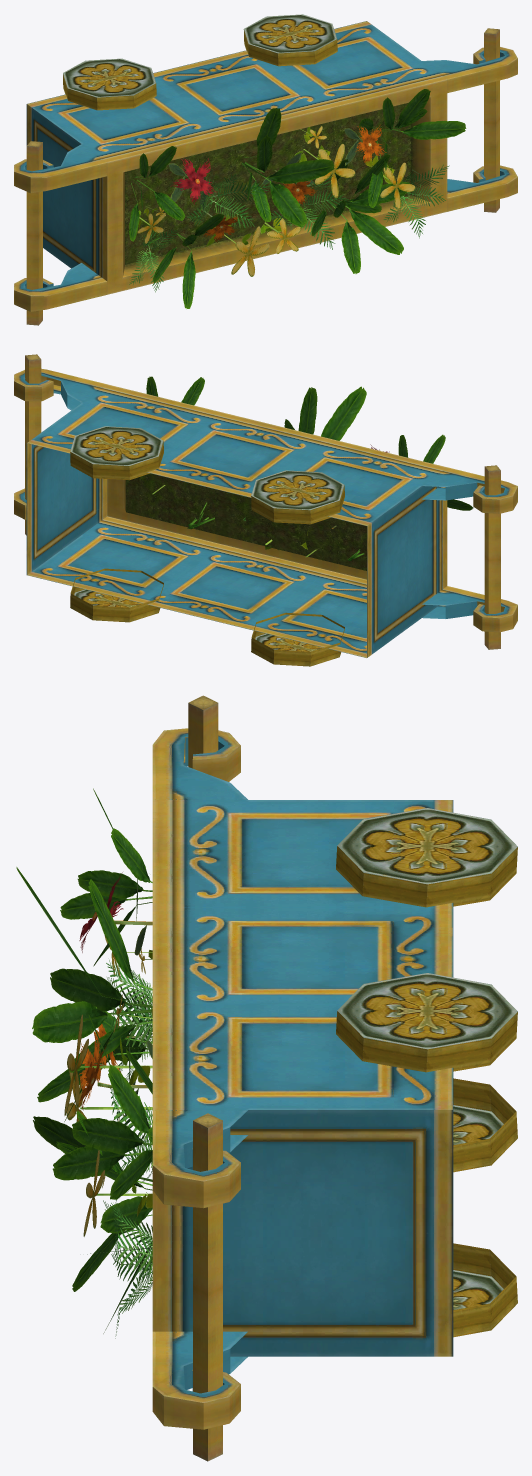
File: huisuo_dongxue_209_zhiwu.obj
3 views of the same model, one above another, from view 1: azimuth 30°, elevation 25°; view 2: azimuth 150°, elevation 25°; view 3: azimuth 270°, elevation 25° (orthographic). The views are drawn at different scales.
Visible parts, largest first — view 1: huisuo_dongxue_209_zhiwu; view 2: huisuo_dongxue_209_zhiwu; view 3: huisuo_dongxue_209_zhiwu.
Part boxes in pixels (box(x1,y1,x2,y2)): huisuo_dongxue_209_zhiwu: box(14, 14, 517, 325); huisuo_dongxue_209_zhiwu: box(14, 354, 517, 666); huisuo_dongxue_209_zhiwu: box(16, 695, 517, 1461).
Bounding box in the file's own units: 210 × 76.06 × 98.59.
Materials: 6 (6 with a texture image).
